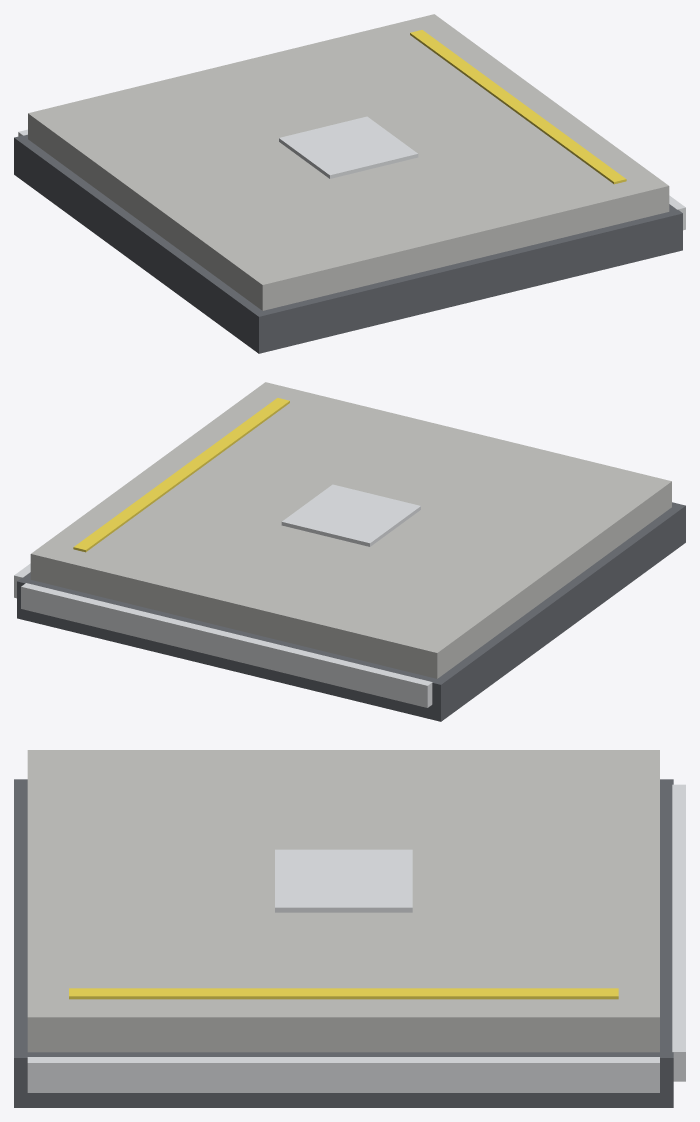
Rendered from marina-and-yacht-club-marina-and-yacht-club-pontoon-mo-a244138a__38284.glb.
3 renders of one model, top to bottom at view 1: azimuth 30°, elevation 25°; view 2: azimuth 150°, elevation 25°; view 3: azimuth 270°, elevation 25°, orthographic. The views are drawn at different scales.
Parts seen in each view (by area): view 1: marina-and-yacht-club-pontoon-module-corner; view 2: marina-and-yacht-club-pontoon-module-corner; view 3: marina-and-yacht-club-pontoon-module-corner.
Part boxes in pixels (box(x1,y1,x2,y2)): marina-and-yacht-club-pontoon-module-corner: box(14, 14, 685, 353); marina-and-yacht-club-pontoon-module-corner: box(14, 382, 685, 721); marina-and-yacht-club-pontoon-module-corner: box(14, 750, 685, 1107).
Size of the model in its own units: 2.45 by 0.3601 by 2.45.
